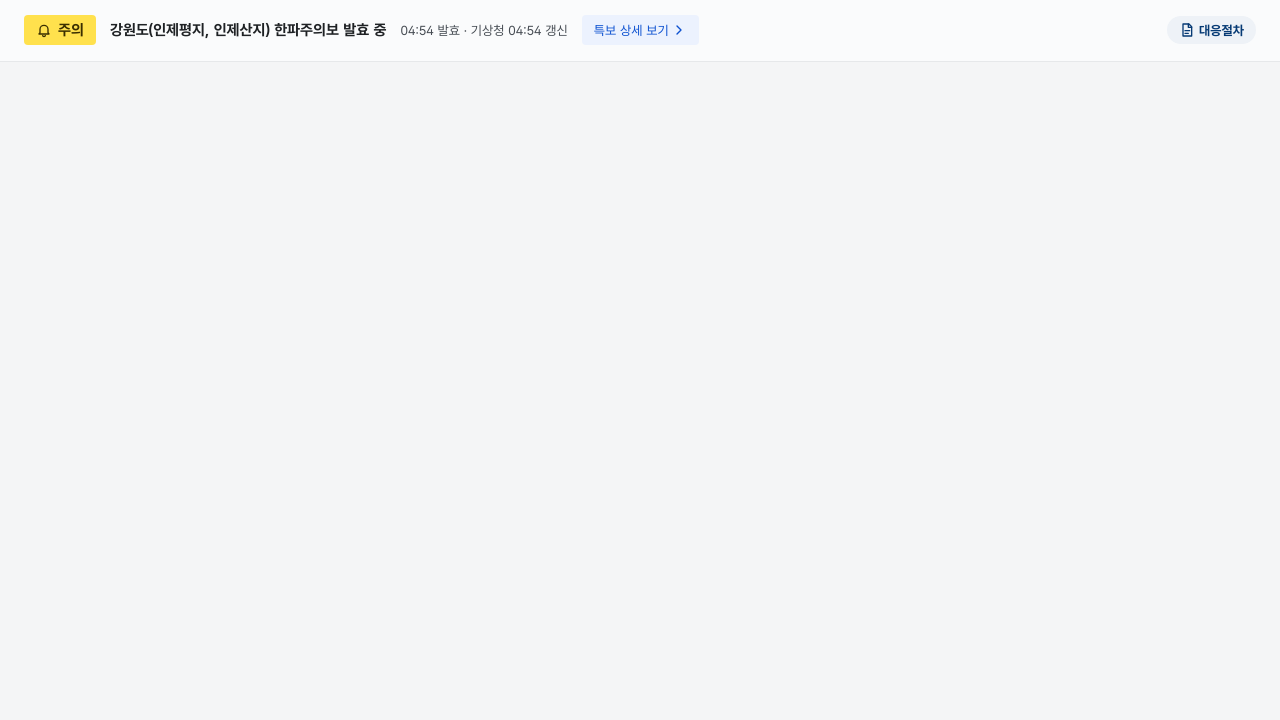
Test: 기상특보 상세 창 › AI 모드를 켜 두어도 [이 특보로 질의]를 막지 않는다(개발서버 askDisabled = 질문이 꽉 찼을 때만)
The width and height of the screenshot is (1280, 720).
Click the button with class "wxmore": (640, 30) [582,15,699,45]
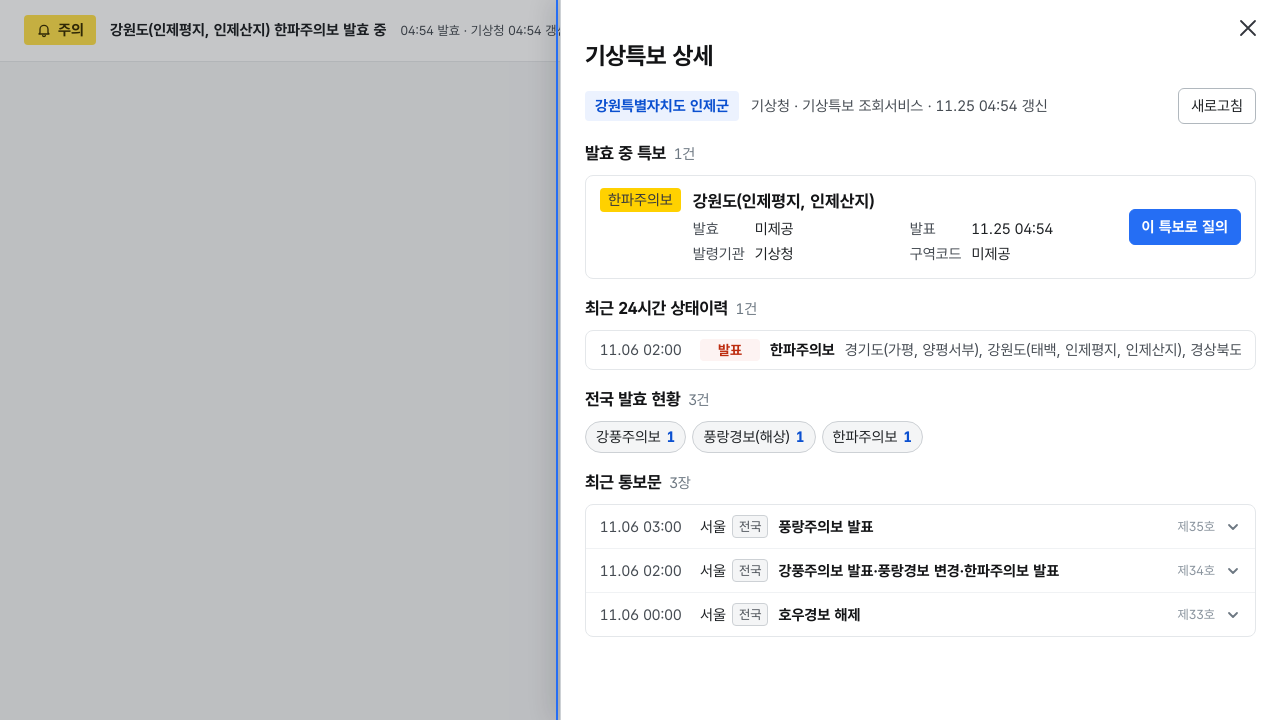
Check: the button "이 특보로 질의" is enabled, box [1129,209,1241,245]
